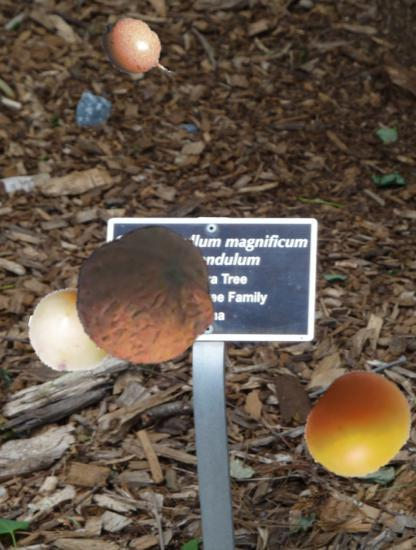Cherry: (303, 370, 416, 483)
Granadilla: (97, 11, 179, 93)
Pepino: (28, 284, 122, 378)
Walnut: (74, 223, 218, 367)
